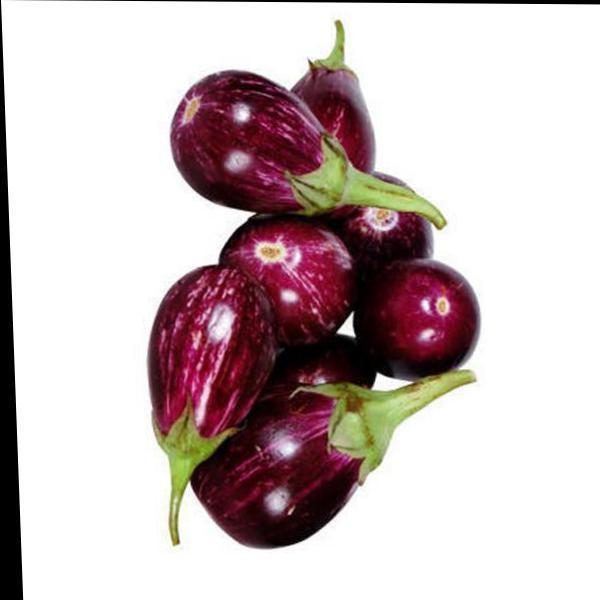eggplant: (60, 15, 534, 568), (114, 220, 286, 556), (150, 57, 393, 223), (338, 231, 501, 410)
